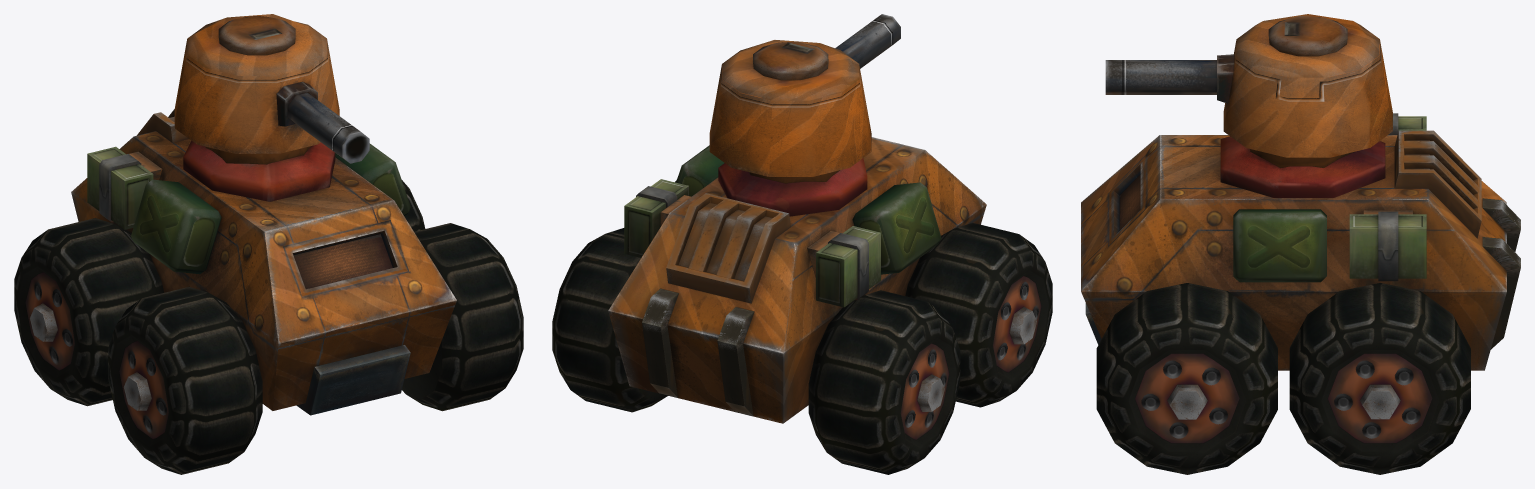
The model's file is Tank.glb.
3 views of the same model, side by side, from view 1: azimuth 30°, elevation 25°; view 2: azimuth 150°, elevation 25°; view 3: azimuth 270°, elevation 25° (orthographic). The views are drawn at different scales.
Parts seen in each view (by area): view 1: unnamed; view 2: unnamed; view 3: unnamed.
Boxes of the visible parts, x1,y1,x2,y2 form: unnamed: (14,14,523,474); unnamed: (552,14,1052,474); unnamed: (1081,14,1520,474).
Size of the model in its own units: 73.64 by 68.92 by 74.49.
Materials: 1 (1 with a texture image).
